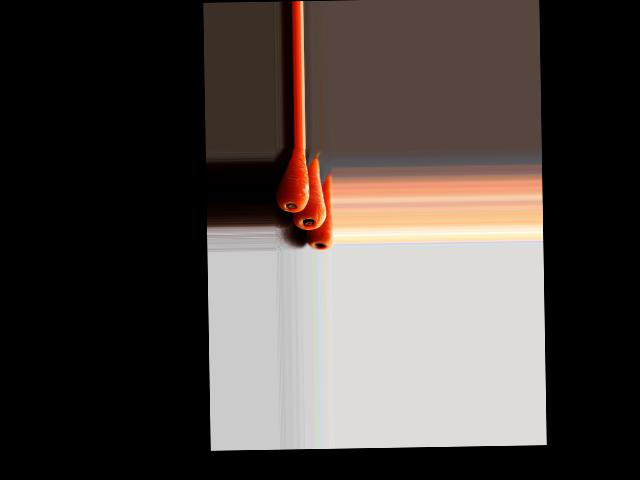carrot: (303, 174, 332, 240)
